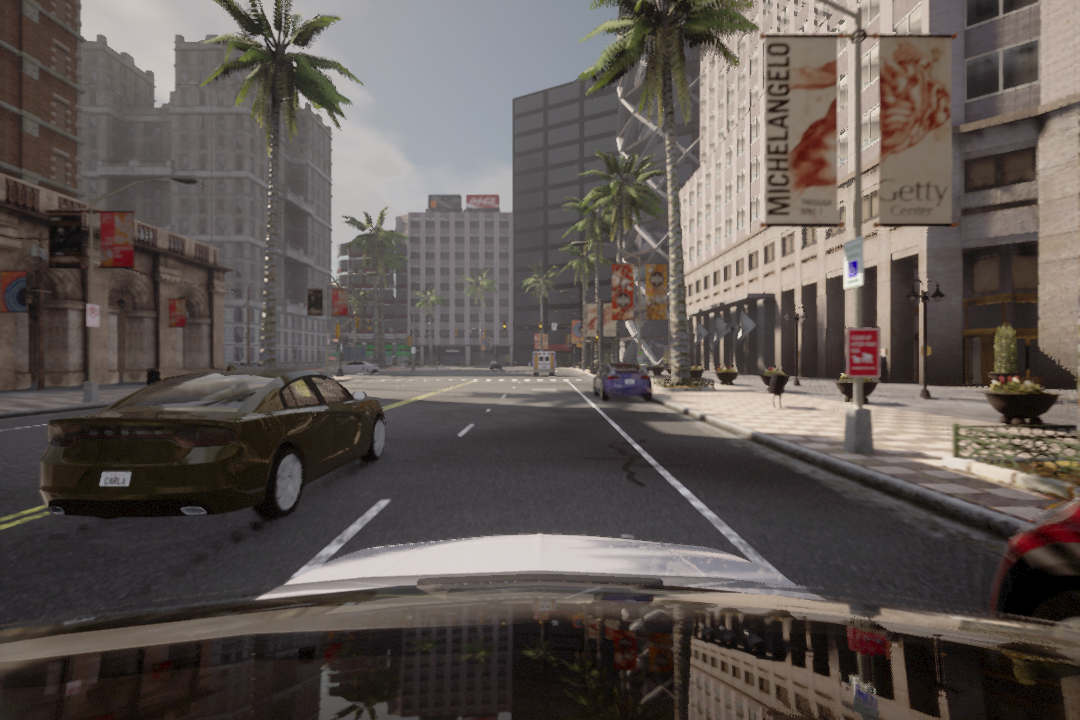TrafficSign_nstop: (84, 304, 99, 331)
